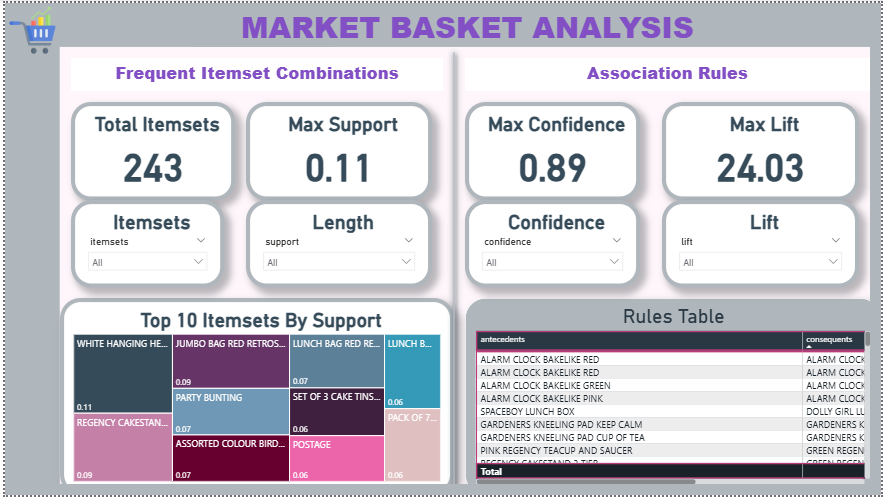

What the dashboard file says about the page in this screenshot:
{"tool":"powerbi","page":{"name":"Page 1","canvas":[1280,719],"ordinal":0},"visuals":[{"type":"shape","box":[0,0,80,720],"z":0},{"type":"textbox","box":[272,0,208,64],"z":1000},{"type":"shape","box":[48,0,1232,64],"z":2000},{"type":"image","box":[0,0,80,80],"z":3000},{"type":"textbox","box":[80,0,1200,64],"z":4000},{"type":"card","title":"Total Itemsets","fields":{"Values":["Count(frequent_itemsets (3).itemsets)"]},"box":[96,144,240,144],"z":5000},{"type":"card","title":"Max Support","fields":{"Values":["Max(frequent_itemsets (3).support)"]},"box":[352,144,272,144],"z":6000},{"type":"treemap","title":"Top 10 Itemsets By Support ","fields":{"Group":["frequent_itemsets (3).itemsets"],"Values":["Max(frequent_itemsets (3).support)"]},"box":[80,431,576,288],"z":7000},{"type":"slicer","title":"Itemsets","fields":{"Values":["frequent_itemsets (3).itemsets"]},"box":[96,288,224,128],"z":8000},{"type":"slicer","title":"Length","fields":{"Values":["frequent_itemsets (3).support"]},"box":[352,288,272,128],"z":9000},{"type":"textbox","box":[96,80,544,48],"z":10000},{"type":"shape","box":[640,63,32,656],"z":11000},{"type":"textbox","box":[672,80,592,48],"z":12000},{"type":"tableEx","title":"Rules Table","fields":{"Values":["association_rules (2).antecedents","association_rules (2).consequents","Sum(association_rules (2).confidence)","Sum(association_rules (2).lift)","Sum(association_rules (2).support)"]},"box":[672,431,608,288],"z":13000},{"type":"card","title":"Max Confidence","fields":{"Values":["Max(association_rules (2).confidence)"]},"box":[672,144,256,144],"z":14000},{"type":"card","title":"Max Lift","fields":{"Values":["Max(association_rules (2).lift)"]},"box":[960,144,288,144],"z":15000},{"type":"slicer","title":"Confidence","fields":{"Values":["association_rules (2).confidence"]},"box":[672,288,256,128],"z":16000},{"type":"slicer","title":"Lift","fields":{"Values":["association_rules (2).lift"]},"box":[960,288,288,128],"z":17000},{"type":"shape","box":[1264,-1,16,720],"z":18000},{"type":"shape","box":[0,703,1264,16],"z":19000}]}

Visuals, with their boxes in screenshot pixels (x1, y1, x2, y2), scaled from the page's 1280x719 canvas onto the 883x497 screenshot:
shape: bbox=[0, 0, 55, 496]
textbox: bbox=[188, 0, 331, 44]
shape: bbox=[33, 0, 882, 44]
image: bbox=[0, 0, 55, 55]
textbox: bbox=[55, 0, 882, 44]
"Total Itemsets" card: bbox=[66, 100, 232, 199]
"Max Support" card: bbox=[243, 100, 430, 199]
"Top 10 Itemsets By Support " treemap: bbox=[55, 298, 453, 496]
"Itemsets" slicer: bbox=[66, 199, 221, 288]
"Length" slicer: bbox=[243, 199, 430, 288]
textbox: bbox=[66, 55, 442, 88]
shape: bbox=[442, 44, 464, 496]
textbox: bbox=[464, 55, 872, 88]
"Rules Table" tableEx: bbox=[464, 298, 882, 496]
"Max Confidence" card: bbox=[464, 100, 640, 199]
"Max Lift" card: bbox=[662, 100, 861, 199]
"Confidence" slicer: bbox=[464, 199, 640, 288]
"Lift" slicer: bbox=[662, 199, 861, 288]
shape: bbox=[872, 0, 882, 496]
shape: bbox=[0, 486, 872, 496]
